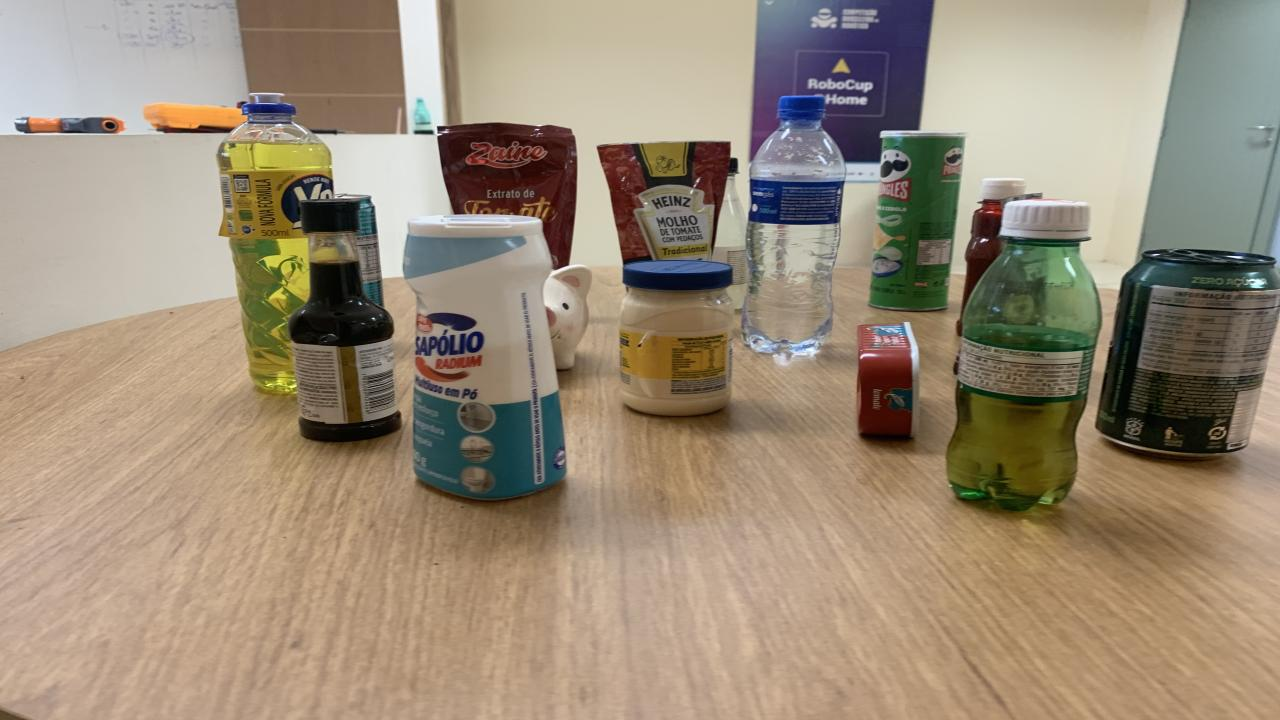Cleaner-Cleanup_Items: (402, 214, 565, 501)
Detergent-Cleanup_Items: (218, 92, 335, 394)
English_Sauce-Pantry_Items: (288, 199, 402, 441)
Guarana-Drinks: (948, 199, 1102, 510)
Guarana_Can-Drinks: (1098, 249, 1280, 458)
Ketchup-Pantry_Items: (960, 178, 1025, 317)
Mayonnaise-Pantry_Items: (620, 259, 732, 416)
Pig_Safe-Miscellaneous: (542, 264, 592, 369)
Pringles-Snacks: (870, 131, 965, 309)
Soda-Drinks: (712, 158, 748, 309)
Tea-Drinks: (335, 195, 382, 306)
Tomato_Sauce-Pantry_Items: (438, 124, 578, 268), (598, 141, 730, 264)
Tuna_Can-Pantry_Items: (858, 322, 918, 437)
Water_Bottle-Drinks: (742, 96, 845, 354)
